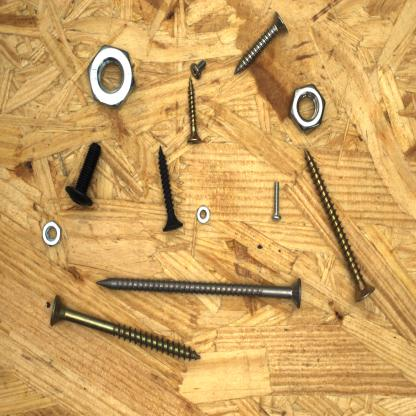screw: (302, 146, 378, 304), (46, 292, 204, 363), (95, 270, 305, 312), (232, 8, 292, 80), (148, 142, 187, 233), (63, 137, 104, 212), (182, 77, 205, 148), (269, 179, 284, 222), (187, 56, 209, 81)
